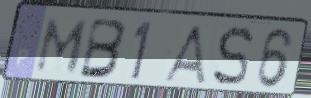1: (130, 19, 154, 83)
6: (255, 25, 294, 91)
A: (159, 22, 208, 86)
B: (76, 16, 129, 81)
M: (32, 17, 91, 75)
S: (210, 24, 256, 89)
